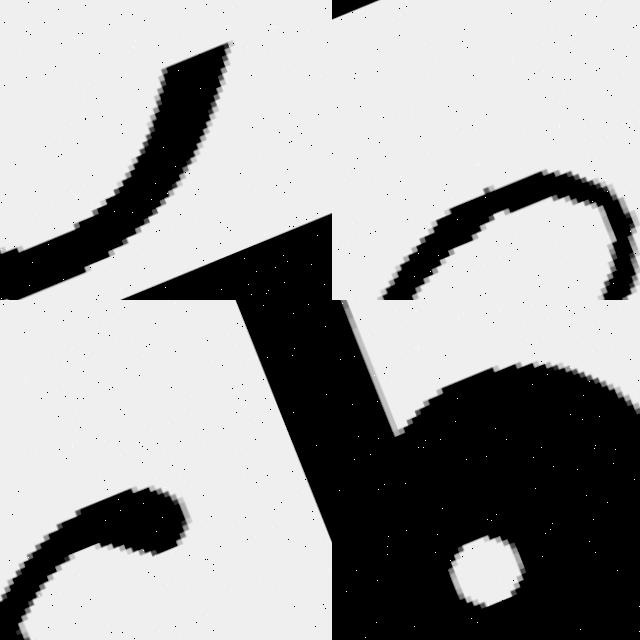B: (332, 300, 640, 640)
C: (0, 42, 234, 300)
K: (0, 300, 319, 640), (332, 0, 640, 300)
